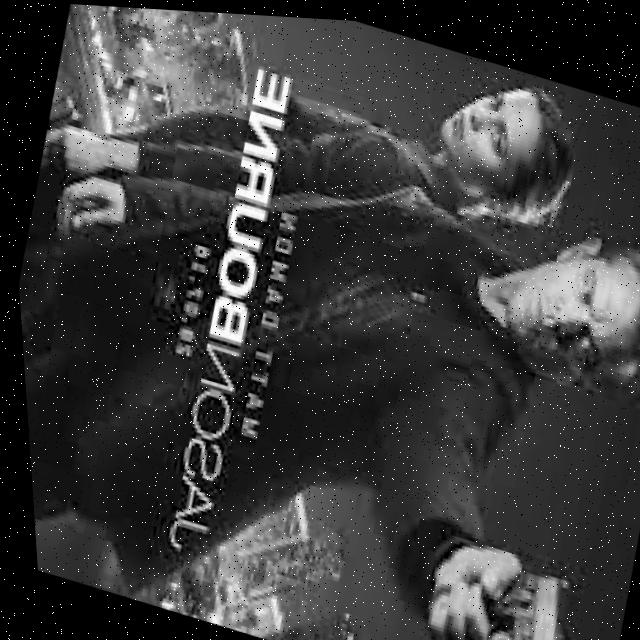pistol: (450, 546, 591, 640), (33, 85, 92, 181)
